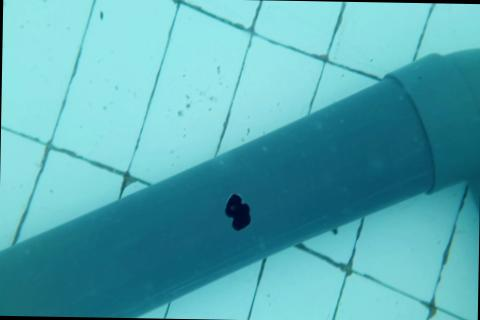kebocoran: (221, 189, 252, 231)
